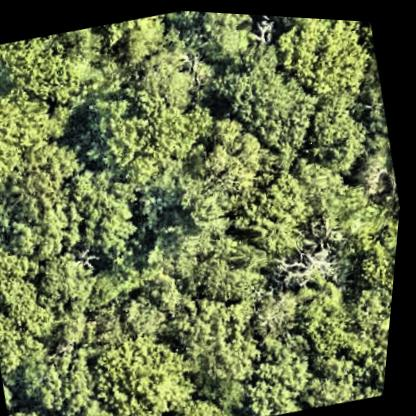tree-top: (77, 46, 235, 197), (0, 70, 94, 230), (150, 210, 276, 321), (76, 318, 215, 416), (210, 43, 324, 154), (0, 114, 101, 239), (0, 21, 123, 123), (171, 288, 279, 400), (263, 13, 378, 107), (58, 159, 156, 267), (0, 242, 73, 380), (230, 162, 326, 261), (236, 331, 328, 416), (21, 334, 114, 416), (289, 269, 367, 363), (299, 156, 385, 237), (166, 158, 254, 237), (299, 336, 392, 409), (245, 277, 322, 360), (338, 201, 403, 296), (306, 95, 383, 174), (35, 249, 112, 324), (98, 9, 178, 69), (186, 9, 261, 68), (287, 228, 352, 294), (355, 139, 406, 206), (121, 289, 178, 341), (166, 384, 243, 416), (86, 275, 130, 312), (17, 401, 95, 416), (375, 329, 394, 390), (254, 12, 310, 26), (14, 402, 63, 416)
